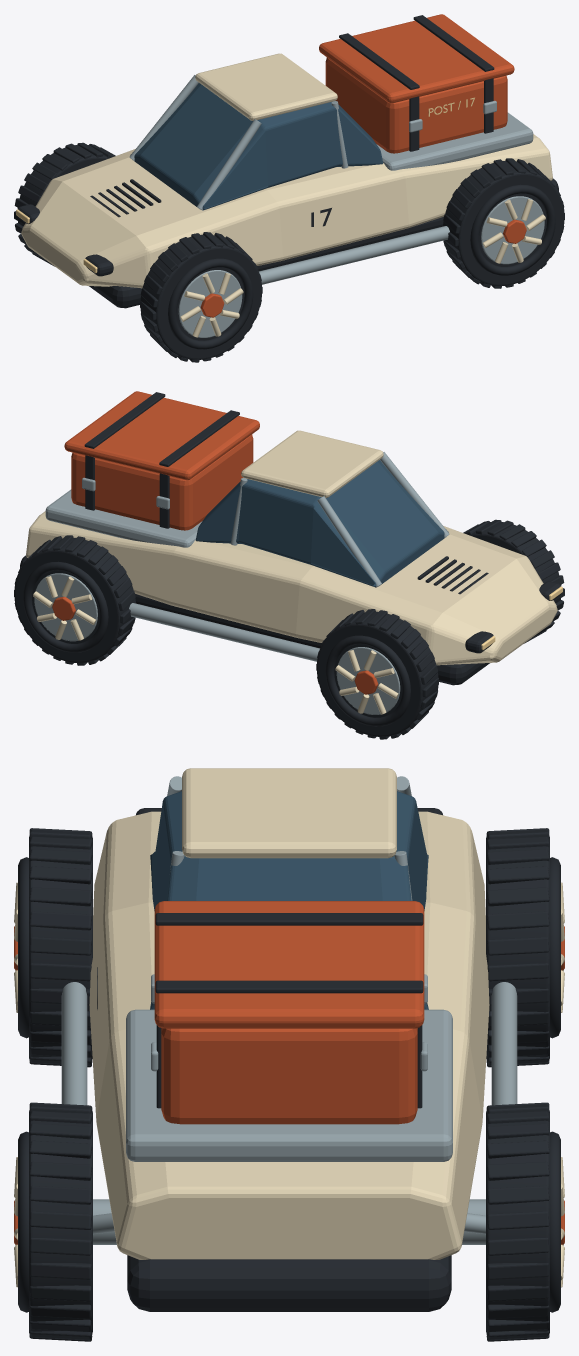
The model's file is prop.glb.
The picture shows the model from 3 angles, top to bottom: view 1: azimuth 30°, elevation 25°; view 2: azimuth 150°, elevation 25°; view 3: azimuth 270°, elevation 25°; orthographic projection. The views are drawn at different scales.
Parts seen in each view (by area): view 1: Stamped monocoque, Tinted polycarbonate, Lid, Dispatch box, Cab visor, Sidewall, Sidewall.001, Rear pallet, Sill guard, Raised bead.001, Raised bead, Undertray (+10 smaller); view 2: Stamped monocoque, Tinted polycarbonate, Lid, Dispatch box, Cab visor, Sidewall.002, Sidewall.003, Rear pallet, Sill guard.001, Raised bead.003, Raised bead.002, Undertray (+10 smaller); view 3: Stamped monocoque, Lid, Dispatch box, Cab visor, Rear pallet, Undertray, Tinted polycarbonate, Sidewall.001, Sidewall.003, Sidewall, Sidewall.002, Webbing across lid.001 (+37 smaller).
Part boxes in pixels (left/top/right/bottom): Stamped monocoque: left=21, top=134, right=552, bottom=288; Tinted polycarbonate: left=130, top=83, right=383, bottom=209; Lid: left=319, top=14, right=514, bottom=103; Dispatch box: left=325, top=57, right=507, bottom=153; Cab visor: left=195, top=53, right=337, bottom=120; Sidewall: left=140, top=234, right=261, bottom=359; Sidewall.001: left=443, top=161, right=564, bottom=285; Rear pallet: left=376, top=112, right=533, bottom=170; Sill guard: left=259, top=226, right=449, bottom=284; Raised bead.001: left=470, top=184, right=555, bottom=275; Raised bead: left=168, top=258, right=253, bottom=349; Undertray: left=89, top=178, right=558, bottom=308; Stamped monocoque: left=26, top=511, right=557, bottom=665; Tinted polycarbonate: left=195, top=460, right=448, bottom=586; Lid: left=64, top=391, right=259, bottom=480; Dispatch box: left=71, top=434, right=253, bottom=530; Cab visor: left=241, top=430, right=383, bottom=497; Sidewall.002: left=317, top=611, right=438, bottom=736; Sidewall.003: left=14, top=538, right=135, bottom=662; Rear pallet: left=45, top=489, right=202, bottom=547; Sill guard.001: left=129, top=603, right=319, bottom=661; Raised bead.003: left=23, top=561, right=108, bottom=652; Raised bead.002: left=325, top=635, right=410, bottom=726; Undertray: left=20, top=555, right=489, bottom=685; Stamped monocoque: left=89, top=811, right=489, bottom=1259; Lid: left=154, top=901, right=424, bottom=1028; Dispatch box: left=161, top=1028, right=417, bottom=1124; Cab visor: left=182, top=768, right=396, bottom=858; Rear pallet: left=126, top=1009, right=452, bottom=1161; Undertray: left=127, top=1255, right=451, bottom=1311; Tinted polycarbonate: left=150, top=791, right=428, bottom=1009; Sidewall.001: left=29, top=1110, right=92, bottom=1334; Sidewall.003: left=486, top=1110, right=549, bottom=1334; Sidewall: left=29, top=836, right=92, bottom=1059; Sidewall.002: left=486, top=836, right=549, bottom=1059; Webbing across lid.001: left=155, top=980, right=423, bottom=993.
Bounding box in the file's own units: 4.39 × 1.76 × 2.41.
